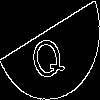Q: (25, 25, 67, 86)
